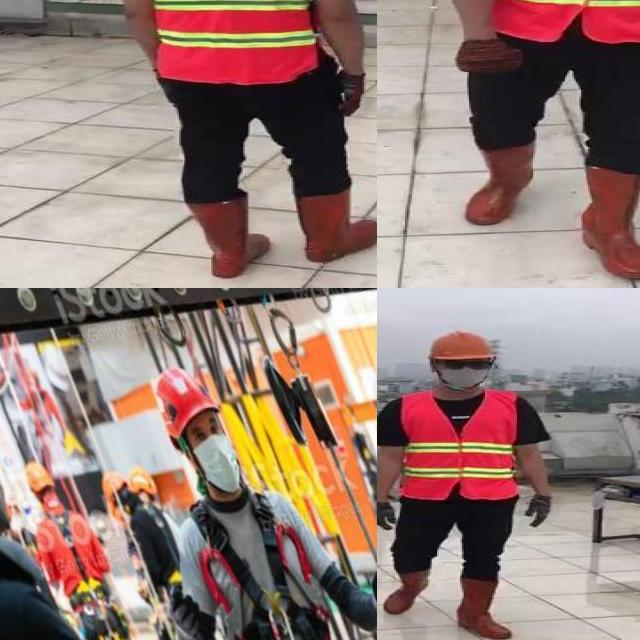Harness: (192, 493, 331, 640)
boots: (577, 164, 640, 280), (184, 196, 266, 279), (292, 193, 377, 261), (465, 144, 535, 225), (455, 577, 515, 640), (382, 567, 435, 614)
face_mask: (437, 359, 494, 389)
glasses: (436, 354, 495, 374)
hand_glove: (457, 40, 522, 73), (332, 73, 366, 116), (524, 495, 551, 529), (377, 502, 400, 531)
head_helmet: (425, 328, 493, 361)
person: (114, 0, 377, 282), (432, 0, 640, 287), (377, 332, 560, 640)
vest: (129, 0, 323, 83), (396, 390, 519, 501)
